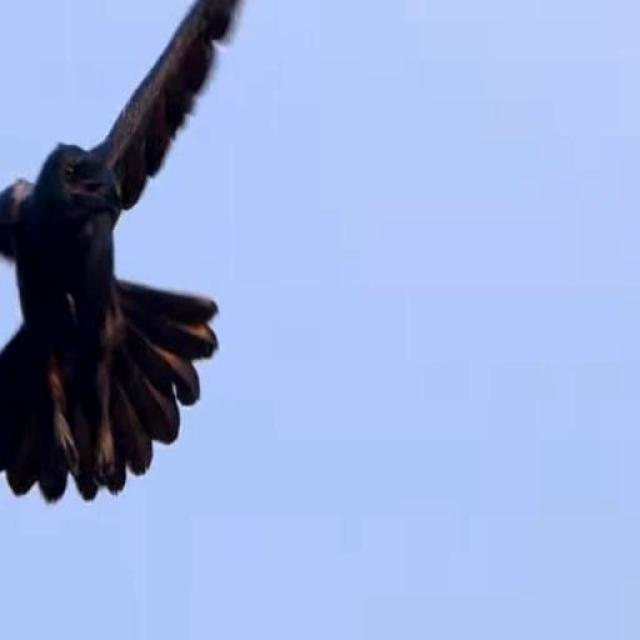airplane: (0, 0, 365, 510)
